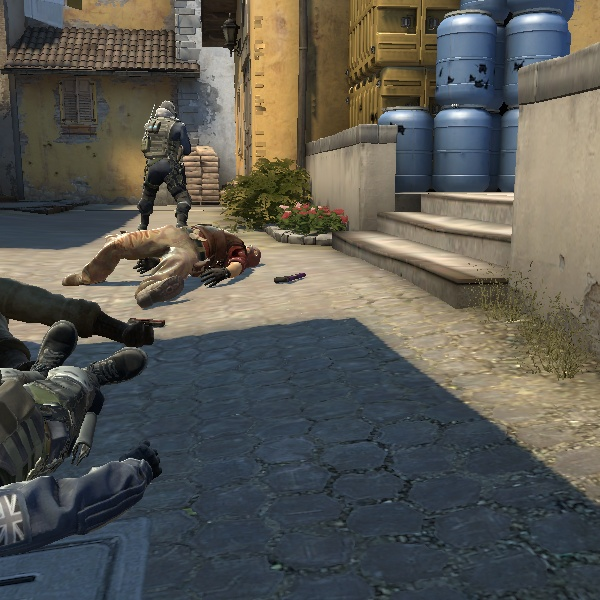ct_body: (130, 97, 197, 233)
